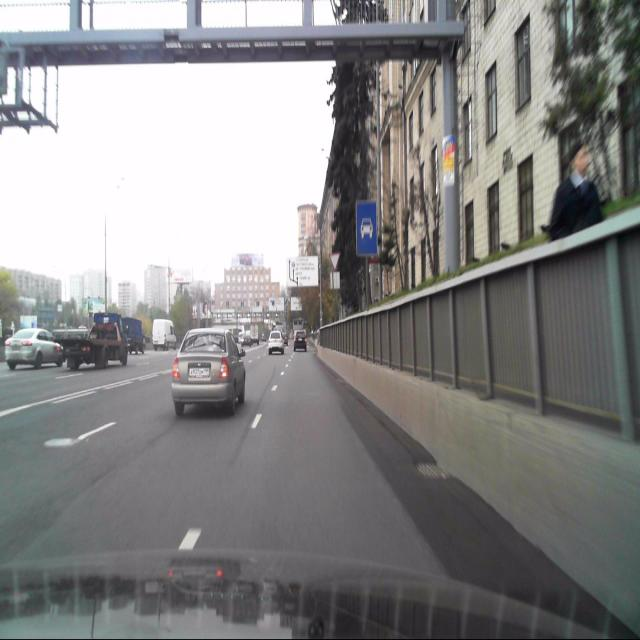road sign: (356, 199, 378, 254)
